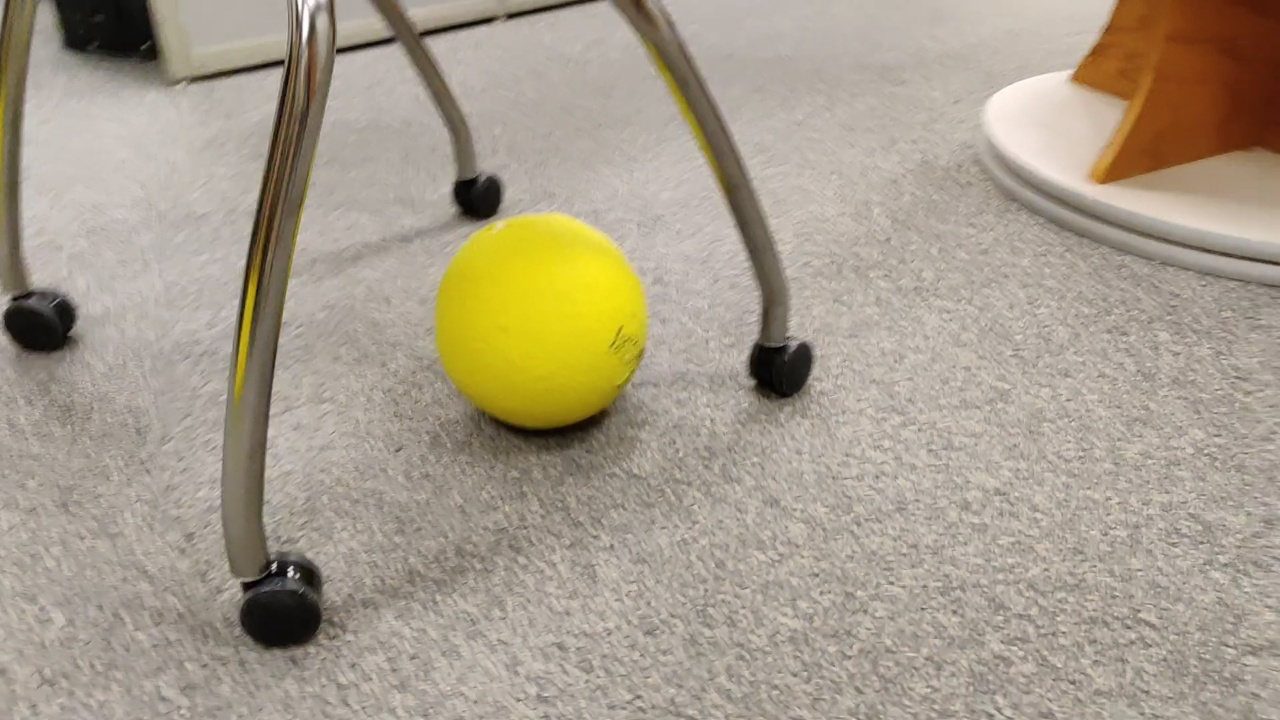Ball: (424, 207, 647, 433)
